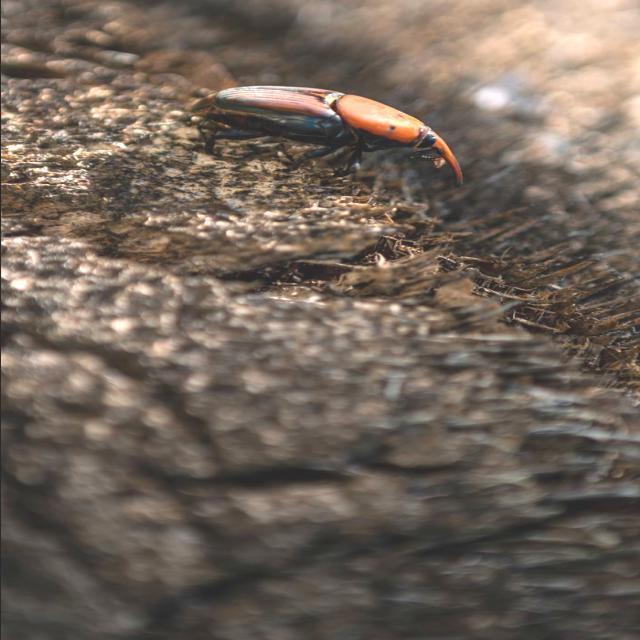Red-palm-weevil: (176, 56, 470, 188)
